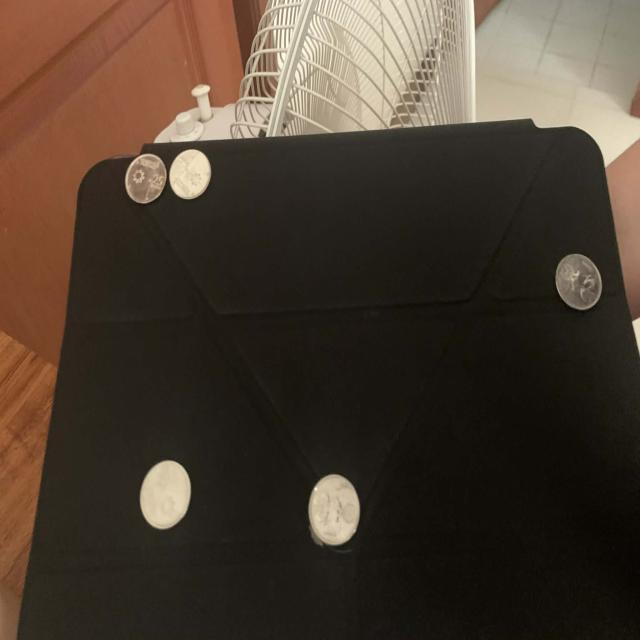25 cents: (308, 474, 360, 548), (139, 460, 191, 530), (554, 251, 605, 312), (124, 153, 168, 205), (169, 148, 212, 200)
